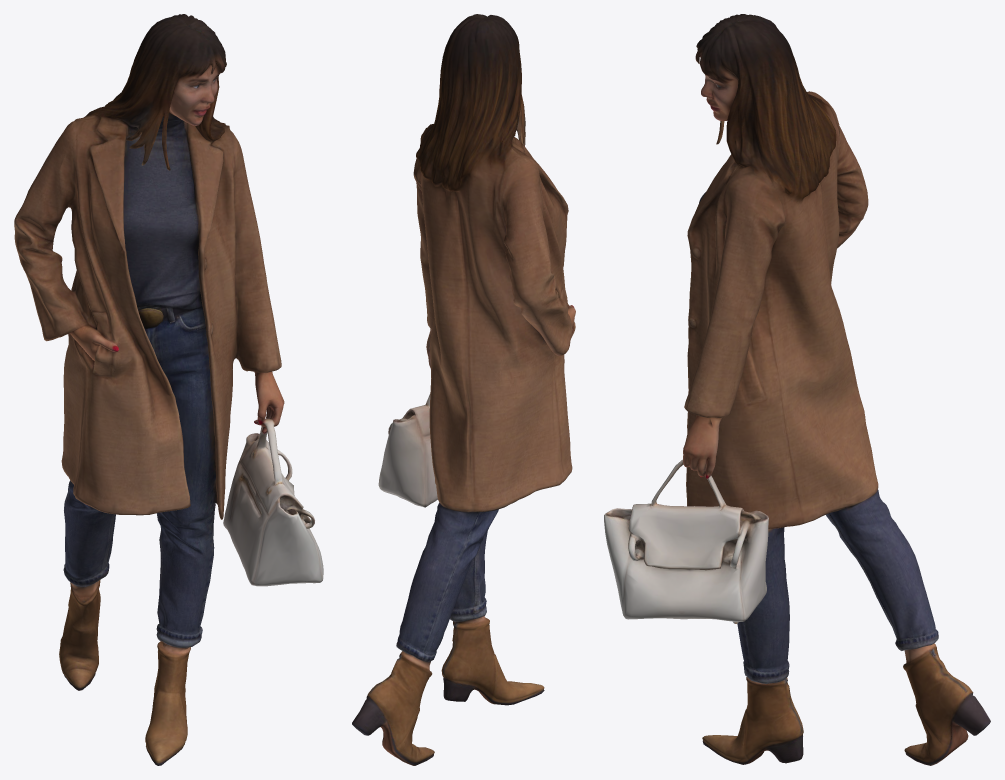
Rendered from Marina_1276_OBJ.obj.
The picture shows the model from 3 angles, left to right: view 1: azimuth 30°, elevation 25°; view 2: azimuth 150°, elevation 25°; view 3: azimuth 270°, elevation 25°; orthographic projection. The views are drawn at different scales.
Visible parts, largest first — view 1: Marina_1276_OBJ; view 2: Marina_1276_OBJ; view 3: Marina_1276_OBJ.
Part boxes in pixels (left/top/right/bottom): Marina_1276_OBJ: left=14, top=14, right=323, bottom=765; Marina_1276_OBJ: left=352, top=14, right=575, bottom=765; Marina_1276_OBJ: left=604, top=14, right=990, bottom=765.
Bounding box in the file's own units: 5.9 × 17.5 × 8.2.
Materials: 1 (1 with a texture image).
